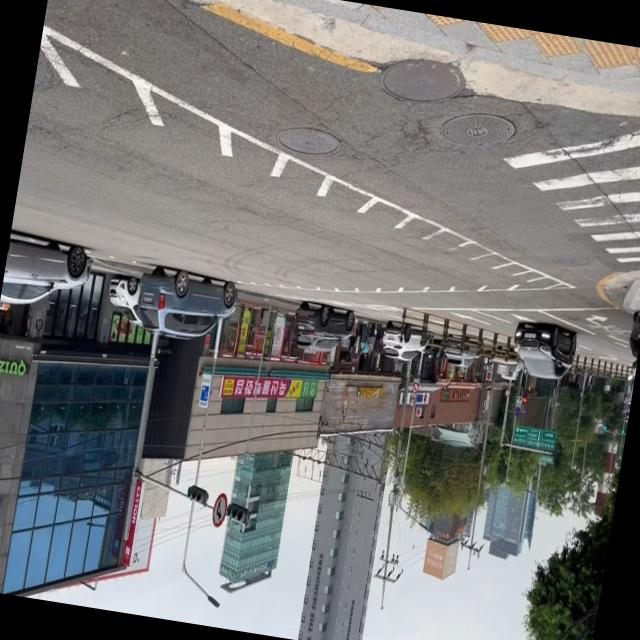building: (0, 256, 182, 614), (295, 422, 395, 640), (458, 438, 555, 586), (214, 442, 295, 599)
car: (110, 240, 253, 370), (0, 232, 94, 316), (508, 319, 579, 383), (289, 299, 356, 357)
